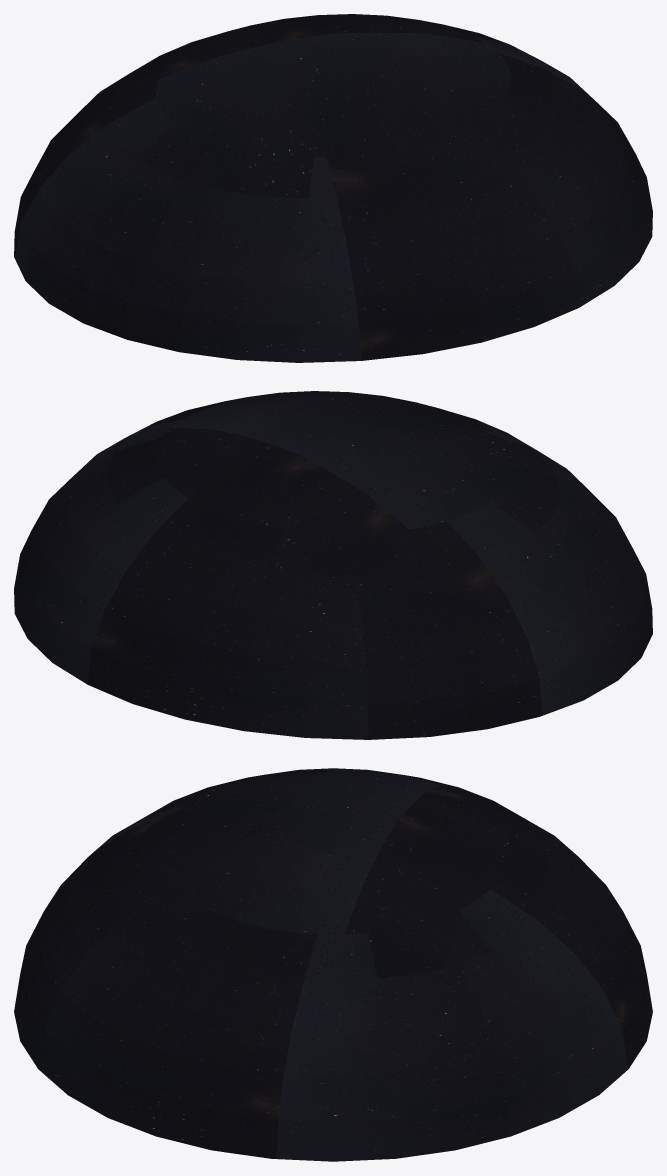
File: laberinto3.2.glb
3 renders of one model, top to bottom at view 1: azimuth 30°, elevation 25°; view 2: azimuth 150°, elevation 25°; view 3: azimuth 270°, elevation 25°, orthographic. The views are drawn at different scales.
Visible parts, largest first — view 1: Esfera; view 2: Esfera; view 3: Esfera.
Part boxes in pixels (<box>): Esfera: <box>14,14,652,362</box>; Esfera: <box>14,391,652,739</box>; Esfera: <box>14,768,652,1161</box>.
Bounding box in the file's own units: 126 × 38.54 × 114.
Materials: 9 (1 with a texture image).
